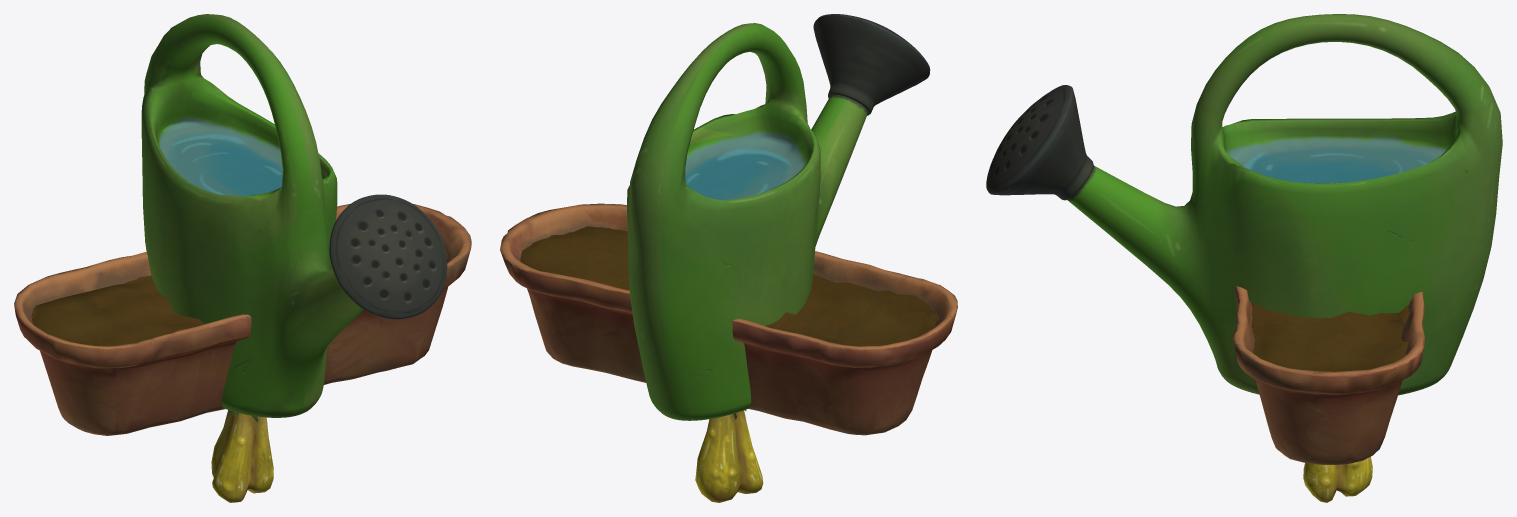
Rendered from jardin.png.glb.
The picture shows the model from 3 angles, left to right: view 1: azimuth 30°, elevation 25°; view 2: azimuth 150°, elevation 25°; view 3: azimuth 270°, elevation 25°; orthographic projection. The views are drawn at different scales.
Visible parts, largest first — view 1: Arrosoir, Pot, Fruit; view 2: Arrosoir, Pot, Fruit; view 3: Arrosoir, Pot, Fruit.
Boxes of the visible parts, box(x1,y1,x2,y2) form: Arrosoir: box(141, 14, 447, 417); Pot: box(14, 203, 471, 435); Fruit: box(211, 410, 273, 502); Arrosoir: box(627, 14, 930, 420); Pot: box(500, 203, 957, 435); Fruit: box(695, 409, 763, 502); Arrosoir: box(986, 14, 1502, 395); Pot: box(1233, 286, 1424, 465); Fruit: box(1303, 456, 1372, 502).
Size of what is drawn, in the model's own units: 0.2603 by 0.2687 by 0.2624.
6 materials, 6 textured.
